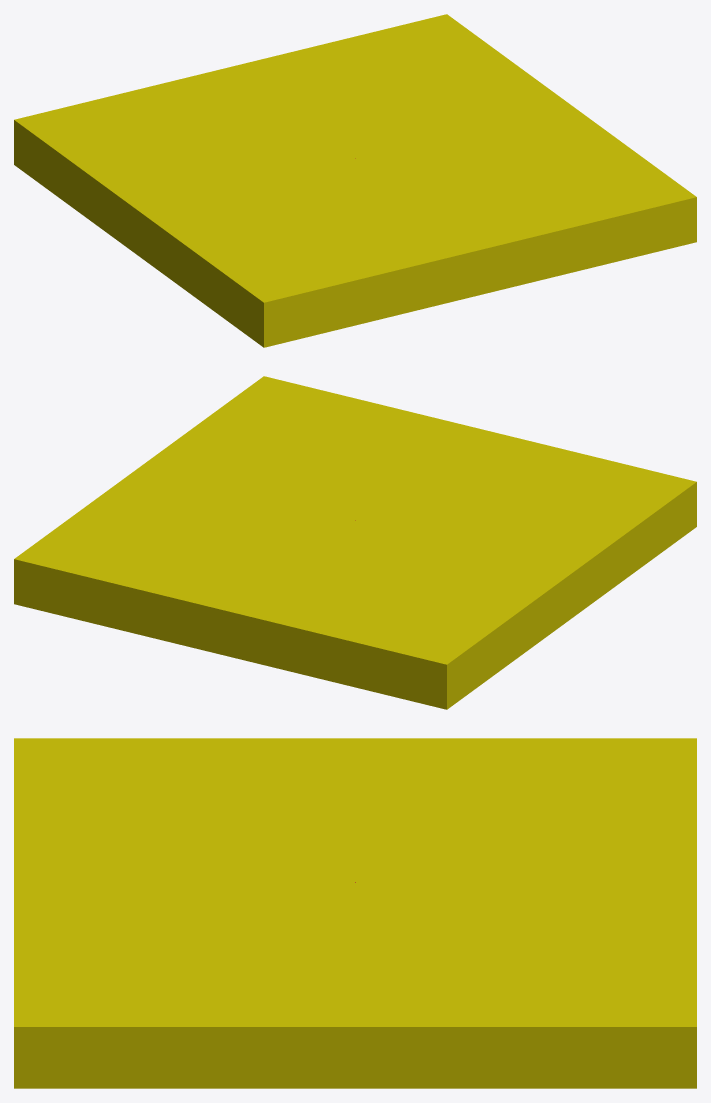
3 renders of one model, top to bottom at view 1: azimuth 30°, elevation 25°; view 2: azimuth 150°, elevation 25°; view 3: azimuth 270°, elevation 25°, orthographic. The views are drawn at different scales.
Visible parts, largest first — view 1: OuterBox; view 2: OuterBox; view 3: OuterBox.
Part boxes in pixels (left/top/right/bottom): OuterBox: left=14, top=14, right=696, bottom=347; OuterBox: left=14, top=376, right=696, bottom=709; OuterBox: left=14, top=738, right=696, bottom=1088.
Size of the model in its own units: 20.1 by 20.1 by 2.
